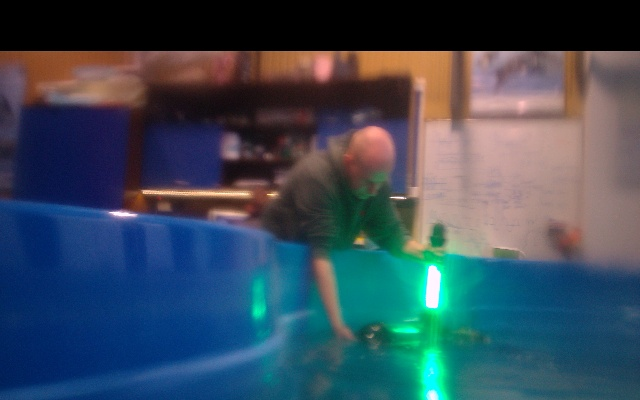green: (424, 264, 441, 319)
